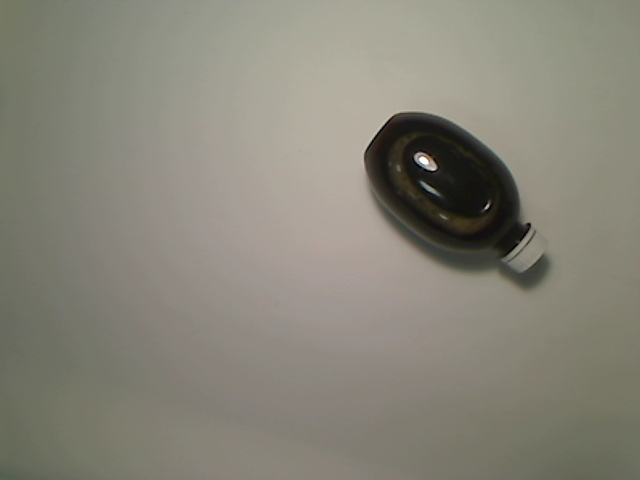plast_bottle: (362, 110, 548, 278)
